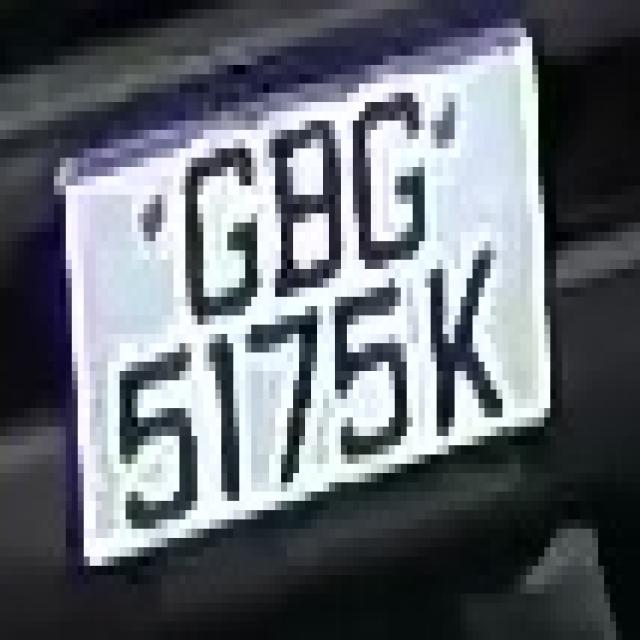1: (198, 315, 264, 529)
5: (102, 334, 191, 529), (323, 278, 413, 464)
7: (251, 288, 341, 492)
B: (251, 120, 347, 316)
G: (168, 130, 269, 352), (341, 102, 443, 269)
K: (413, 241, 508, 436)
